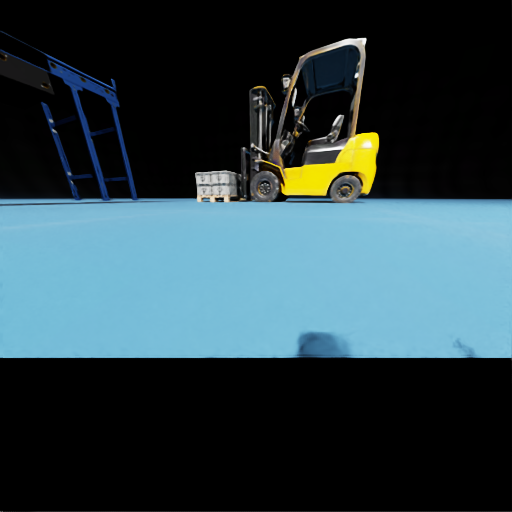transportation_area: (212, 183, 240, 194)
